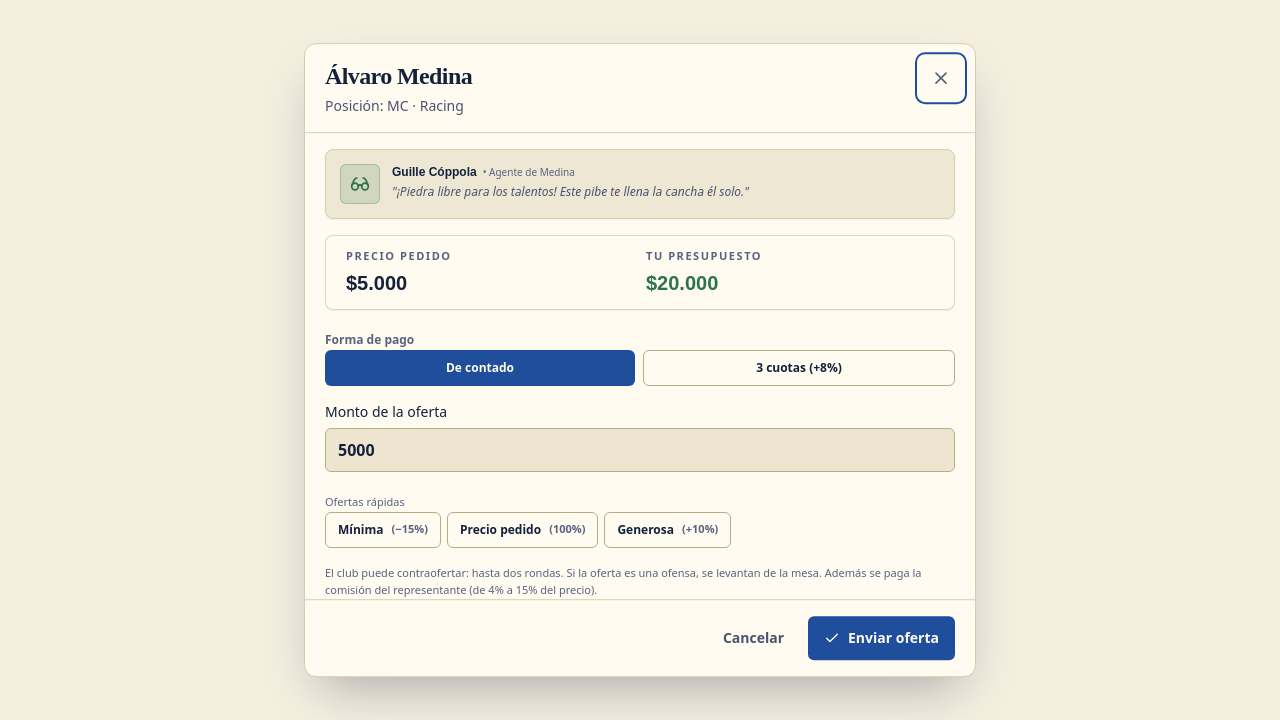
Test: negociación del fichaje › al cerrar el acuerdo muestra la comisión del representante
Click the button "Enviar oferta": (882, 638) [808,616,955,660]
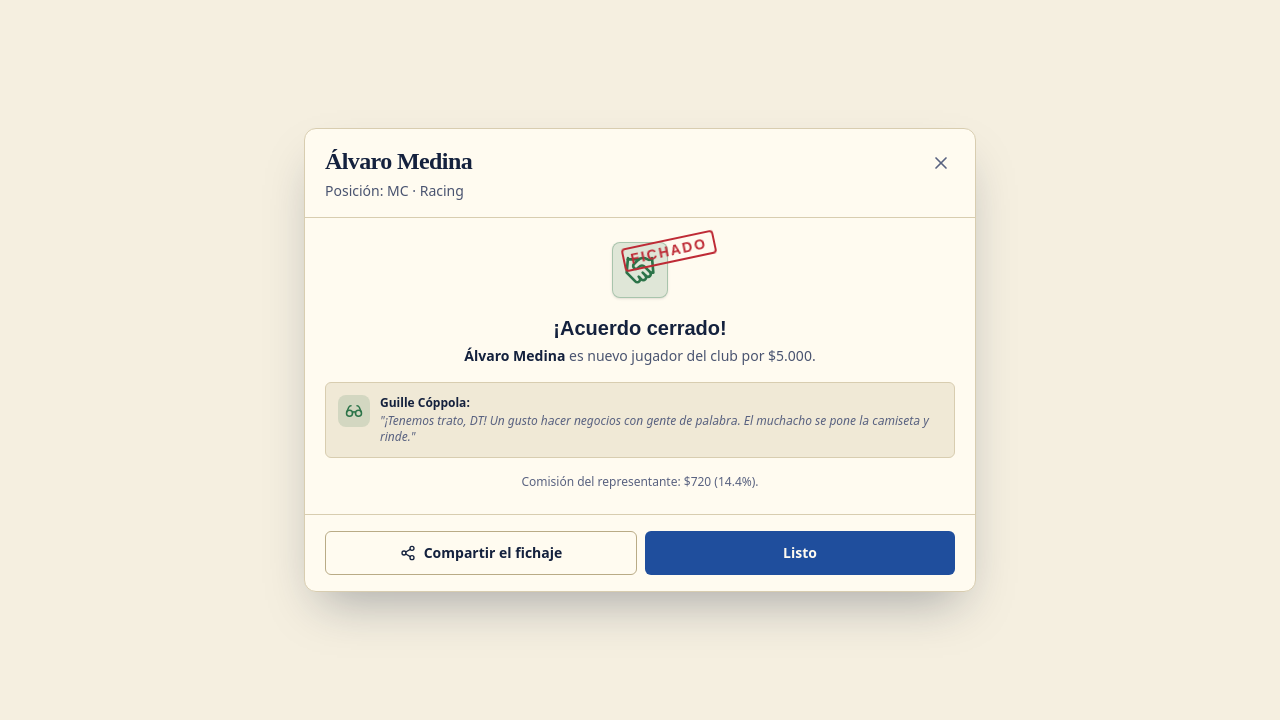
expect the text "Comisión del representante: $720 (14.4%)." is shown: met, box [521,473,759,490]
